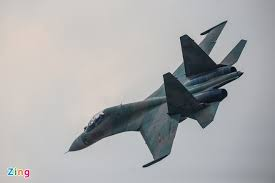maybay_muctieu: (62, 23, 244, 170)
